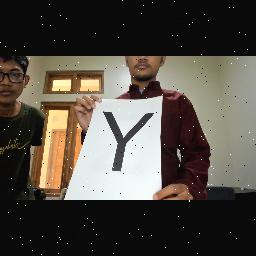y: (98, 107, 156, 177)
